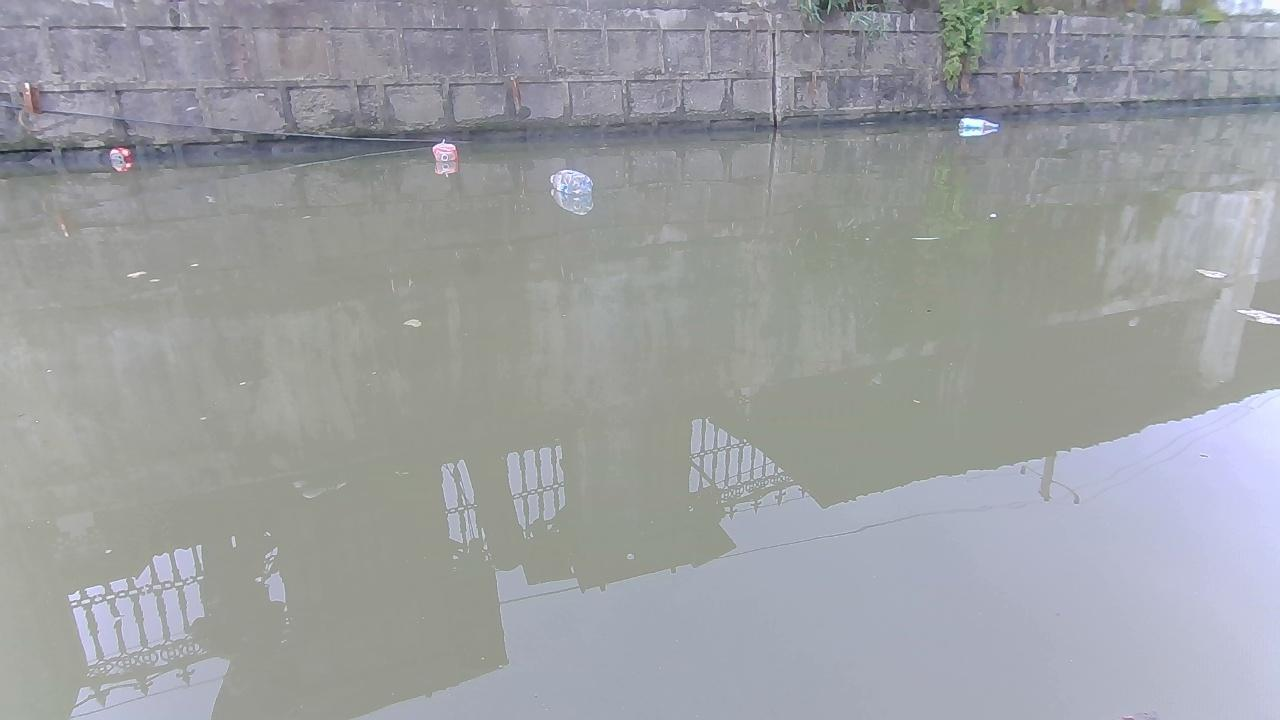bottle: (956, 118, 1009, 137), (548, 169, 592, 191), (431, 141, 456, 160), (110, 146, 129, 166)
